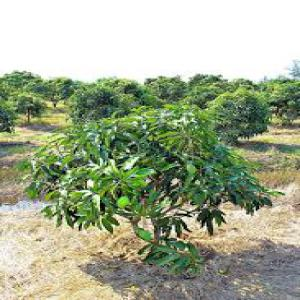Tree: (28, 108, 275, 261)
